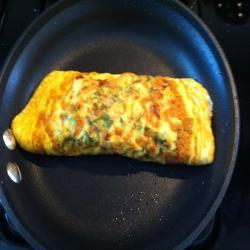omelette: (13, 66, 222, 179)
